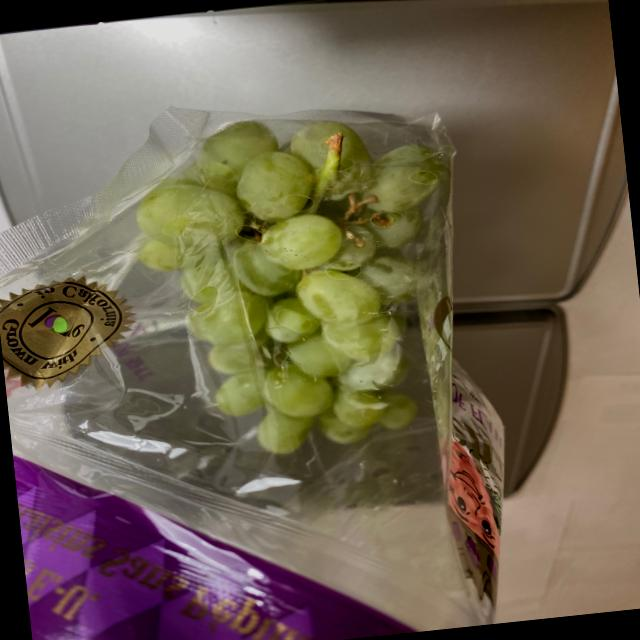grapes: (130, 108, 447, 476)
